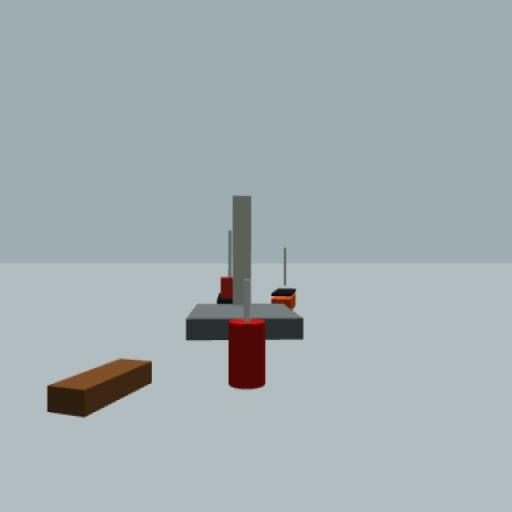debris_container: (46, 357, 154, 419)
floating_obstacle: (228, 280, 266, 391)
